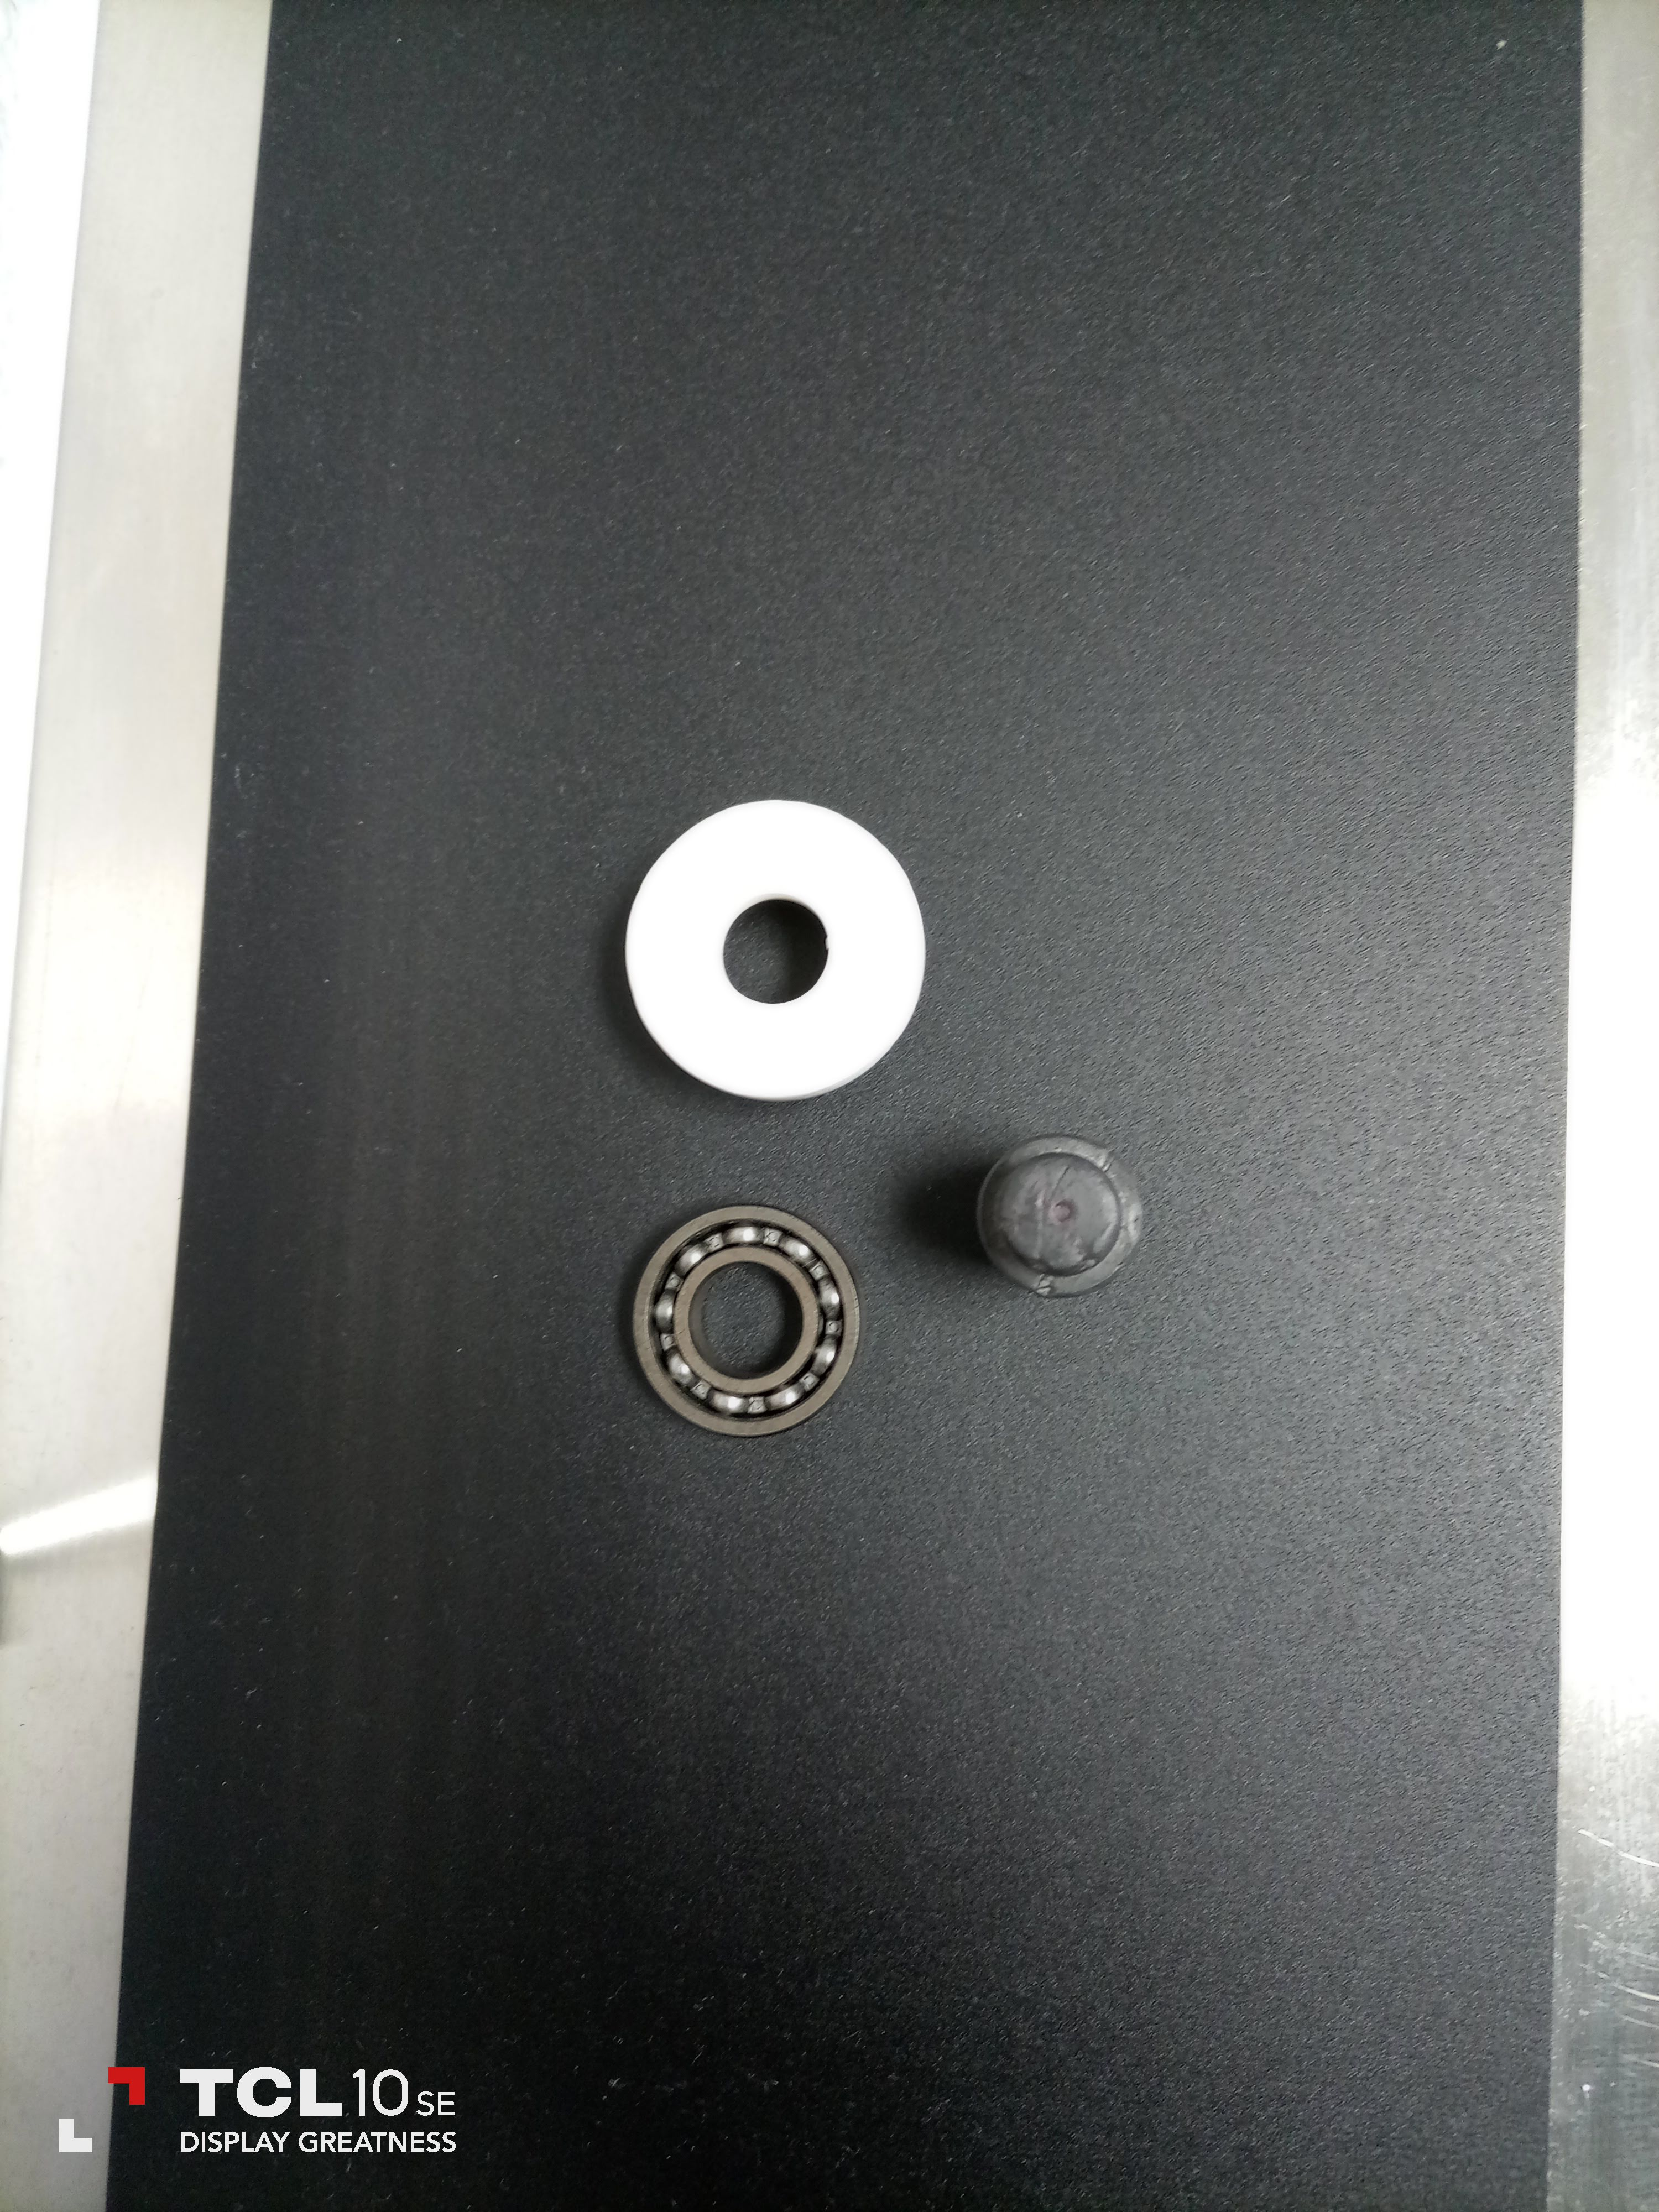Ardatza: (969, 1139, 1154, 1301)
Roda: (615, 1202, 863, 1433)
Tapa: (615, 770, 948, 1090)
